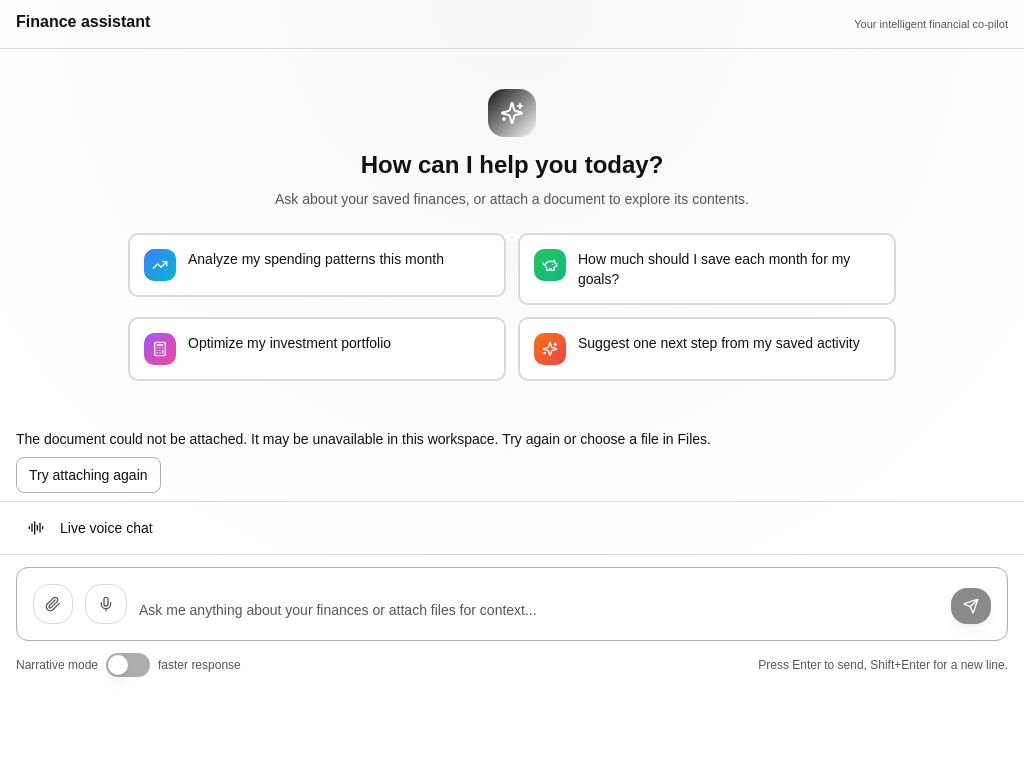
Chat links from Files › displays an attachment failure and retries without sending a question
expect the message shows "could not be attached": met, box [16,431,711,447]
Click the button "Try attaching again": (88, 475) [16,457,161,493]
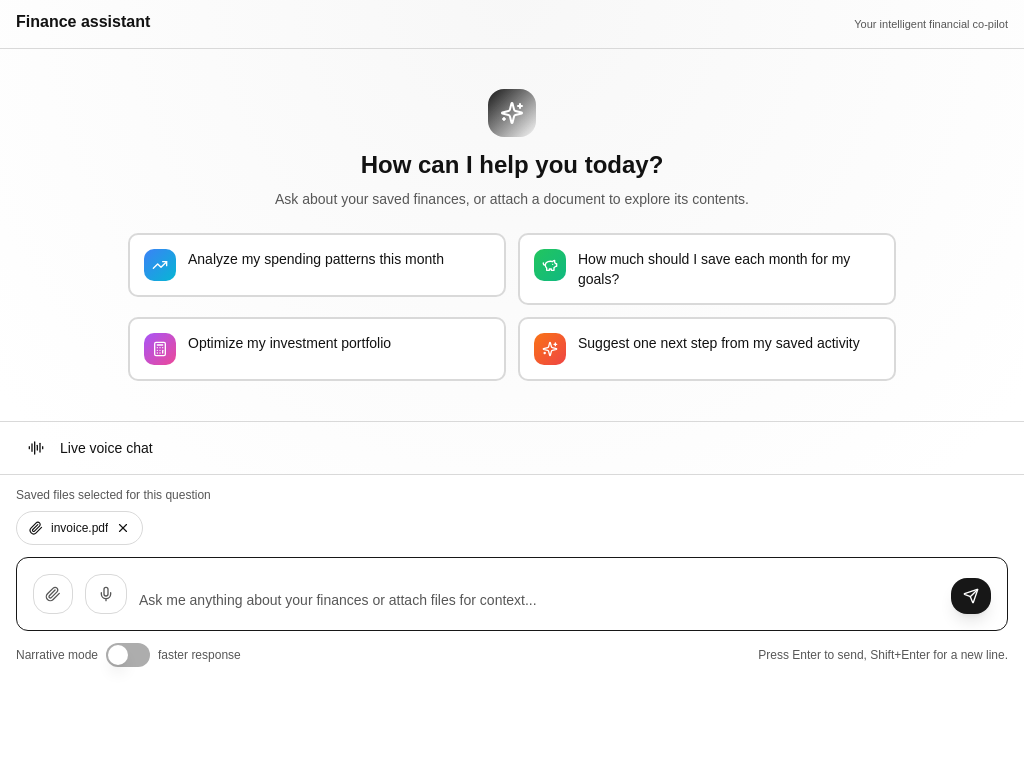
expect the text "invoice.pdf" is shown: met, box [51,520,108,536]
